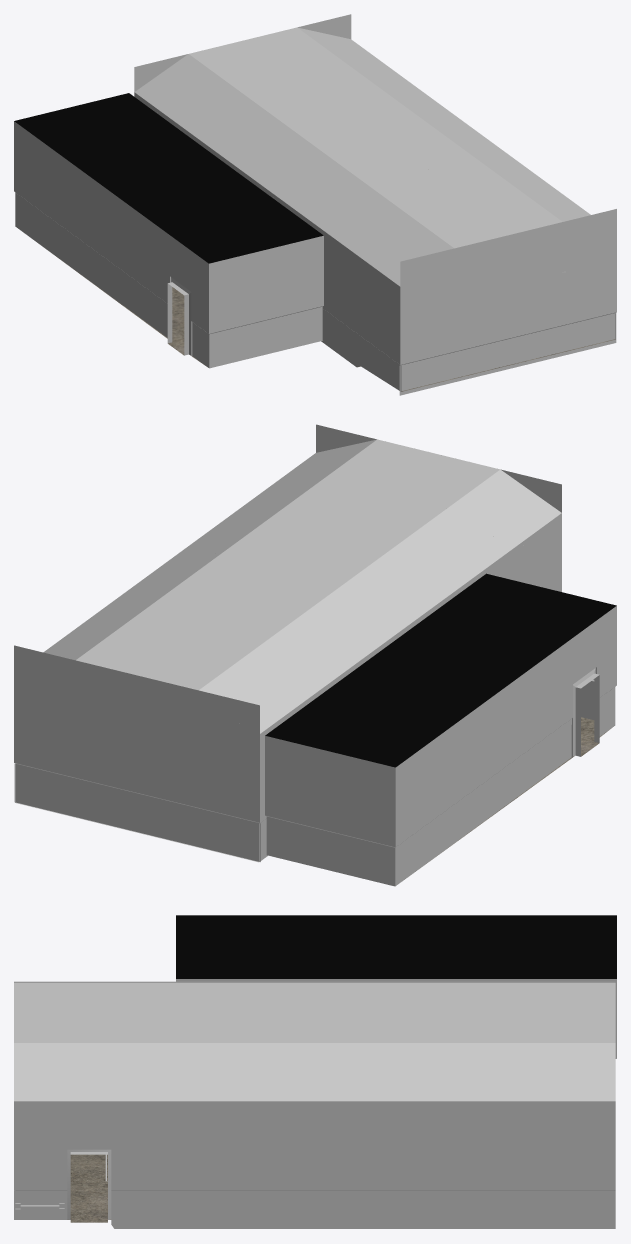
File: autopsy_room.FBX
3 renders of one model, top to bottom at view 1: azimuth 30°, elevation 25°; view 2: azimuth 150°, elevation 25°; view 3: azimuth 270°, elevation 25°, orthographic. The views are drawn at different scales.
Visible parts, largest first — view 1: autopsy_room; view 2: autopsy_room; view 3: autopsy_room.
Part boxes in pixels (box(x1,y1,x2,y2)): autopsy_room: box(14, 14, 616, 395); autopsy_room: box(14, 424, 616, 886); autopsy_room: box(14, 915, 616, 1228).
Size of what is drawn, in the model's own units: 1417 by 544 by 1894.
